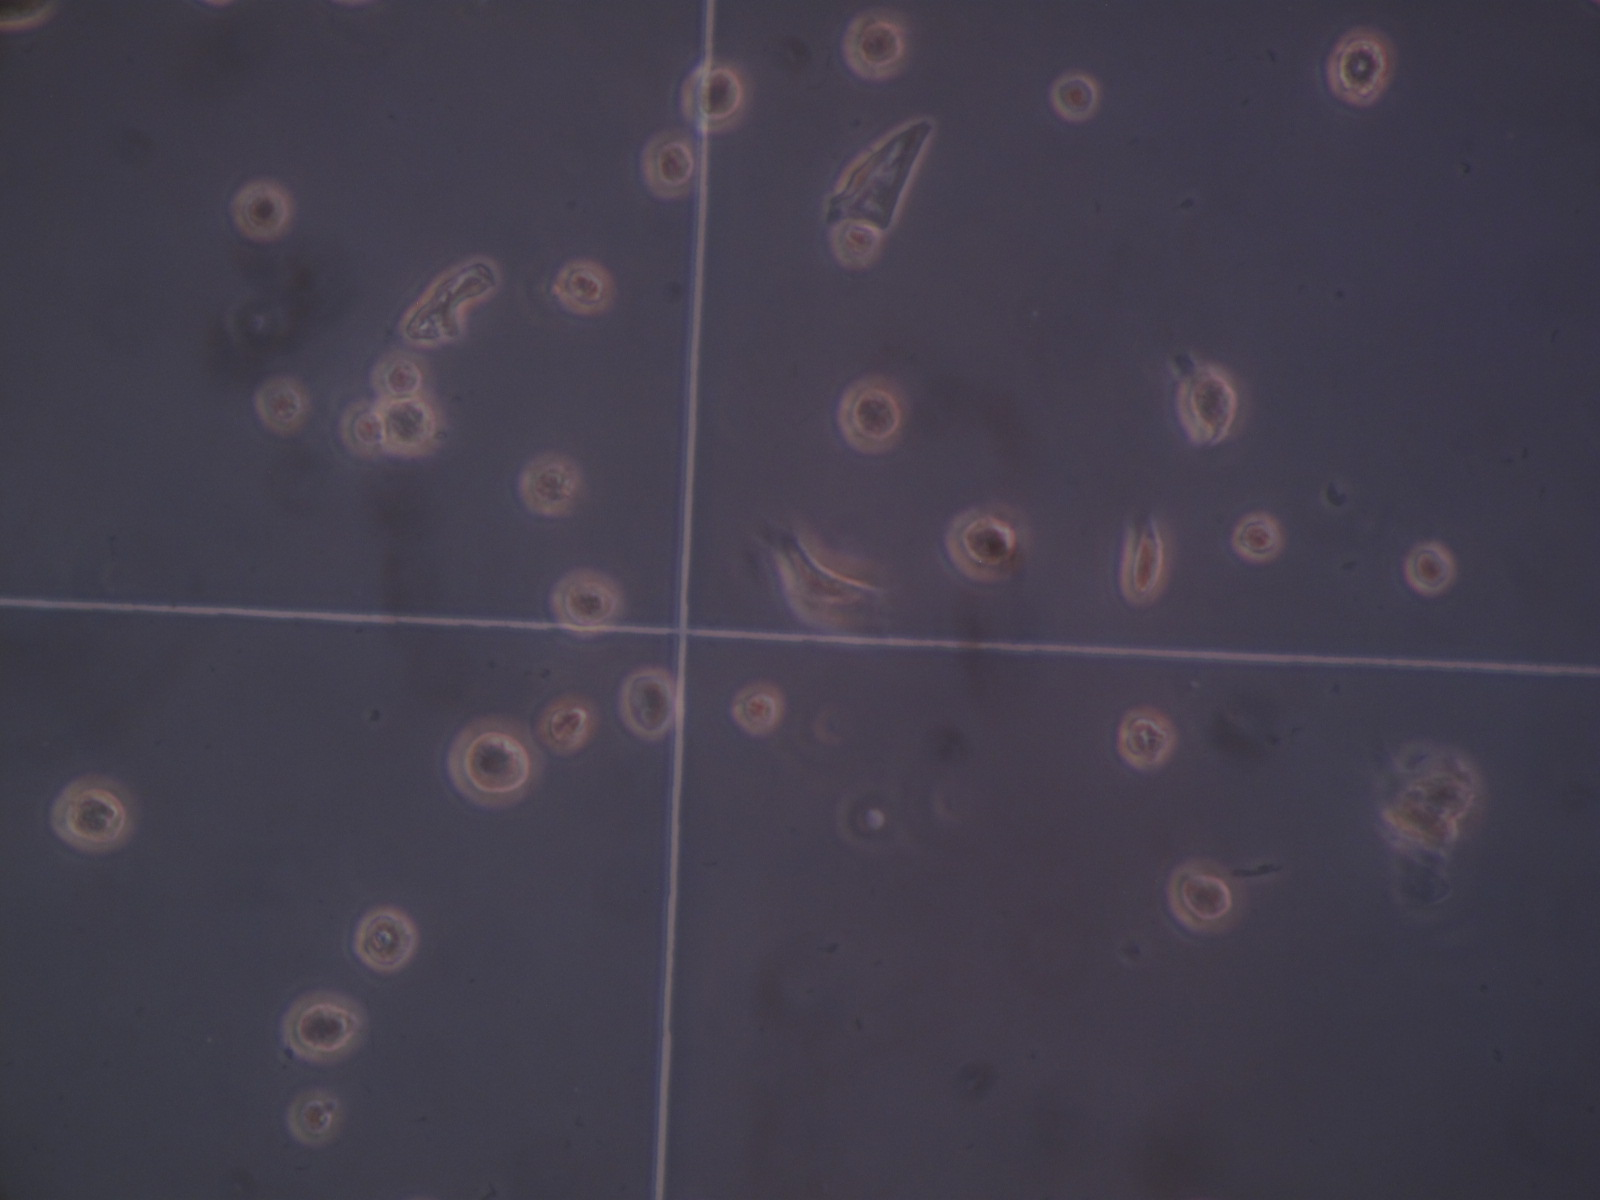hemo: (770, 523, 884, 632), (446, 713, 543, 811), (50, 773, 137, 858), (945, 503, 1031, 584), (278, 989, 368, 1065), (1164, 857, 1245, 935), (837, 373, 911, 458), (1327, 21, 1395, 108), (1172, 361, 1240, 446), (548, 563, 624, 638), (682, 61, 748, 135), (1119, 522, 1175, 608), (842, 13, 908, 84), (532, 689, 601, 756), (517, 450, 582, 521), (353, 906, 418, 974), (617, 666, 677, 740), (227, 178, 294, 243), (374, 396, 443, 458), (639, 129, 695, 199), (1115, 705, 1175, 769), (286, 1085, 341, 1146), (254, 376, 310, 434), (556, 258, 614, 314), (732, 681, 787, 739), (368, 349, 431, 400), (1401, 539, 1455, 597), (831, 219, 884, 272), (339, 401, 388, 458), (1231, 511, 1284, 562), (1049, 69, 1100, 122)
